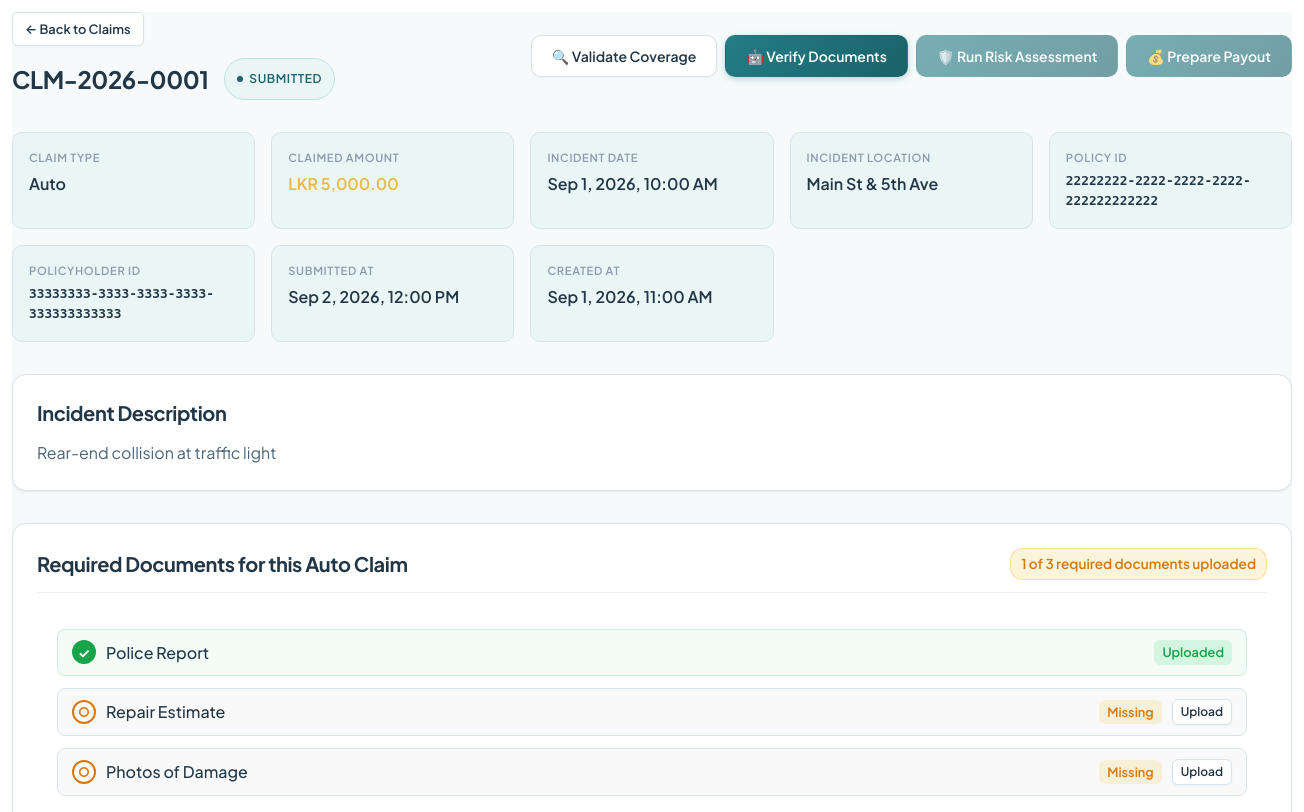
Test: ClaimDetails Component Tests › 2. displays missing documents section when required items are missing
Expected: the heading "CLM-2026-0001 Submitted" is shown, x1=12 y1=58 x2=335 y2=100
Click the button "🤖 Verify Documents" at (817, 56), box x1=725 y1=35 x2=908 y2=77
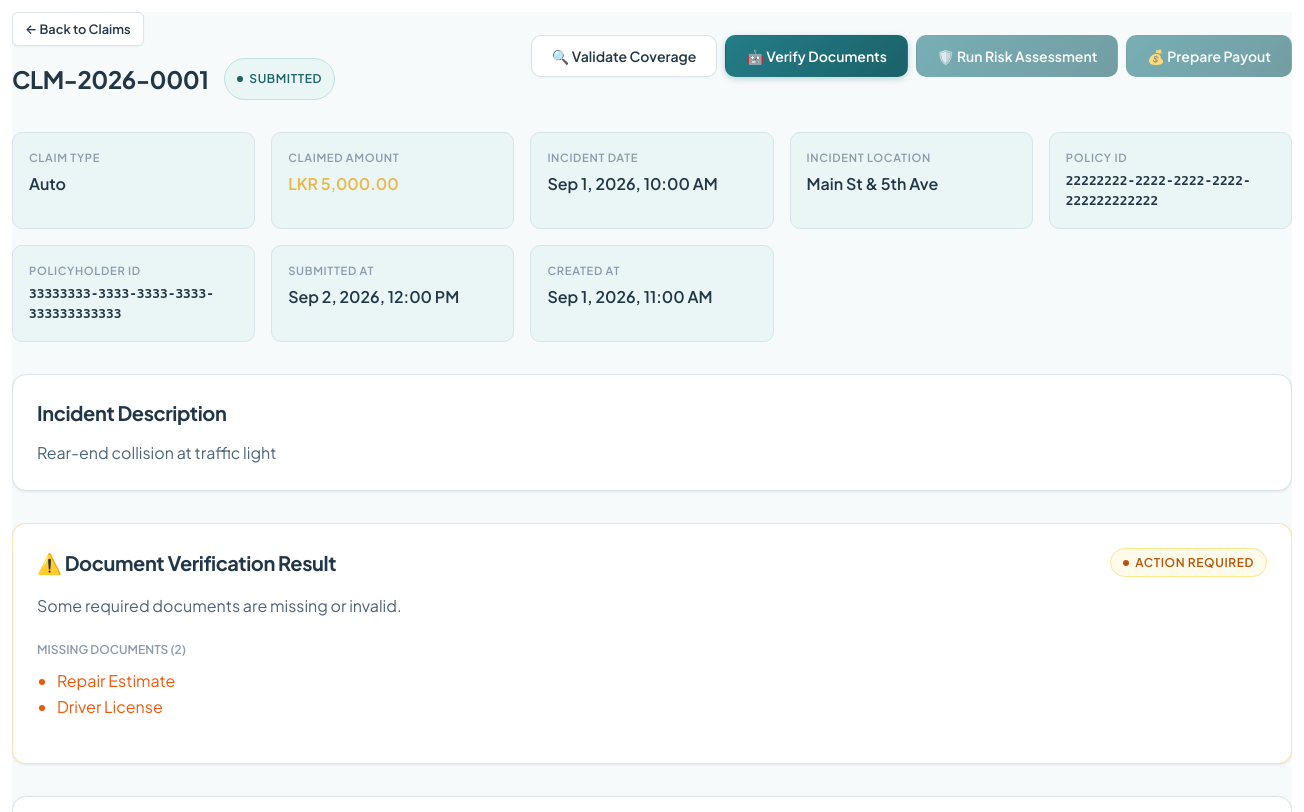
Now the text "Missing Documents (2)" is shown, box x1=37 y1=642 x2=186 y2=657
Now the element with id "missing-documents-section" is shown, box x1=37 y1=642 x2=186 y2=717
Now the list item "Repair Estimate" is shown, box x1=57 y1=670 x2=175 y2=691
